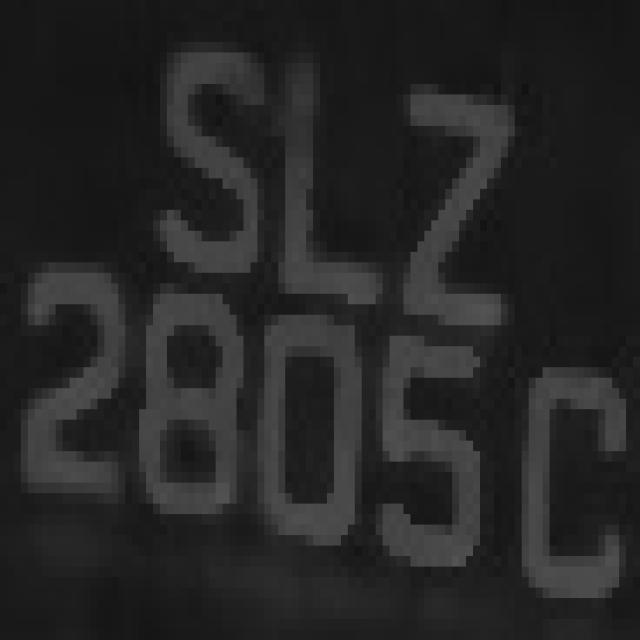0: (244, 273, 368, 556)
2: (14, 230, 132, 546)
5: (369, 294, 480, 598)
8: (111, 241, 258, 546)
C: (508, 325, 619, 640)
L: (264, 42, 404, 346)
S: (139, 11, 264, 304)
Z: (376, 63, 528, 357)
